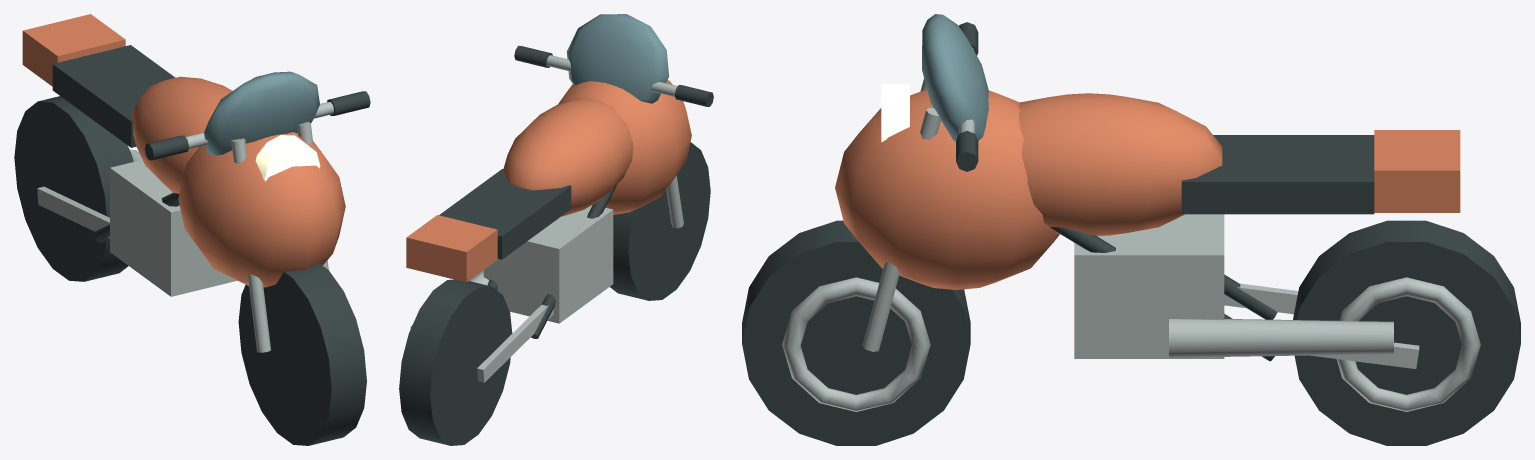
The picture shows the model from 3 angles, left to right: view 1: azimuth 30°, elevation 25°; view 2: azimuth 150°, elevation 25°; view 3: azimuth 270°, elevation 25°; orthographic projection. The views are drawn at different scales.
Parts seen in each view (by area): view 1: fairing, wheel_fl, wheel_rl, engine, seat, glass, tank, tail, light_front, fork, grip (×2), rear-swingarm (+2 smaller); view 2: wheel_rl, tank, engine, wheel_fl, fairing, glass, seat, tail, rear-swingarm, grip (×2), frame, fork (+1 smaller); view 3: wheel_rl, wheel_fl, fairing, tank, engine, seat, exhaust, tail, wheel_fl-alloy, wheel_rl-alloy, glass, rear-swingarm (×2) (+4 smaller).
Part boxes in pixels (bbox=[...]): fairing: bbox=[178, 132, 345, 287]; wheel_fl: bbox=[238, 263, 366, 445]; wheel_rl: bbox=[14, 96, 133, 281]; engine: bbox=[110, 160, 236, 296]; seat: bbox=[52, 45, 175, 147]; glass: bbox=[204, 71, 319, 155]; tank: bbox=[132, 76, 232, 193]; tail: bbox=[22, 14, 125, 86]; light_front: bbox=[255, 135, 320, 181]; fork: bbox=[231, 138, 270, 352]; grip (×2): bbox=[145, 91, 370, 160]; rear-swingarm: bbox=[37, 186, 109, 238]; wheel_rl: bbox=[399, 279, 512, 445]; tank: bbox=[503, 98, 633, 216]; engine: bbox=[483, 205, 613, 323]; wheel_fl: bbox=[610, 142, 710, 300]; fairing: bbox=[558, 80, 691, 214]; glass: bbox=[566, 14, 669, 103]; seat: bbox=[439, 169, 571, 259]; tail: bbox=[406, 215, 497, 282]; rear-swingarm: bbox=[477, 304, 553, 382]; grip (×2): bbox=[514, 45, 713, 106]; frame: bbox=[531, 185, 616, 338]; fork: bbox=[666, 175, 683, 228]; wheel_rl: bbox=[1293, 220, 1520, 445]; wheel_fl: bbox=[742, 220, 970, 445]; fairing: bbox=[835, 89, 1059, 289]; tank: bbox=[1018, 93, 1222, 236]; engine: bbox=[1074, 214, 1224, 358]; seat: bbox=[1181, 135, 1374, 214]; exhaust: bbox=[1169, 319, 1393, 357]; tail: bbox=[1374, 130, 1460, 212]; wheel_fl-alloy: bbox=[782, 277, 930, 411]; wheel_rl-alloy: bbox=[1336, 277, 1480, 411]; glass: bbox=[922, 14, 988, 141]; rear-swingarm (×2): bbox=[1224, 283, 1419, 368].
Size of the model in its own units: 0.8916 by 1.32 by 2.26.
